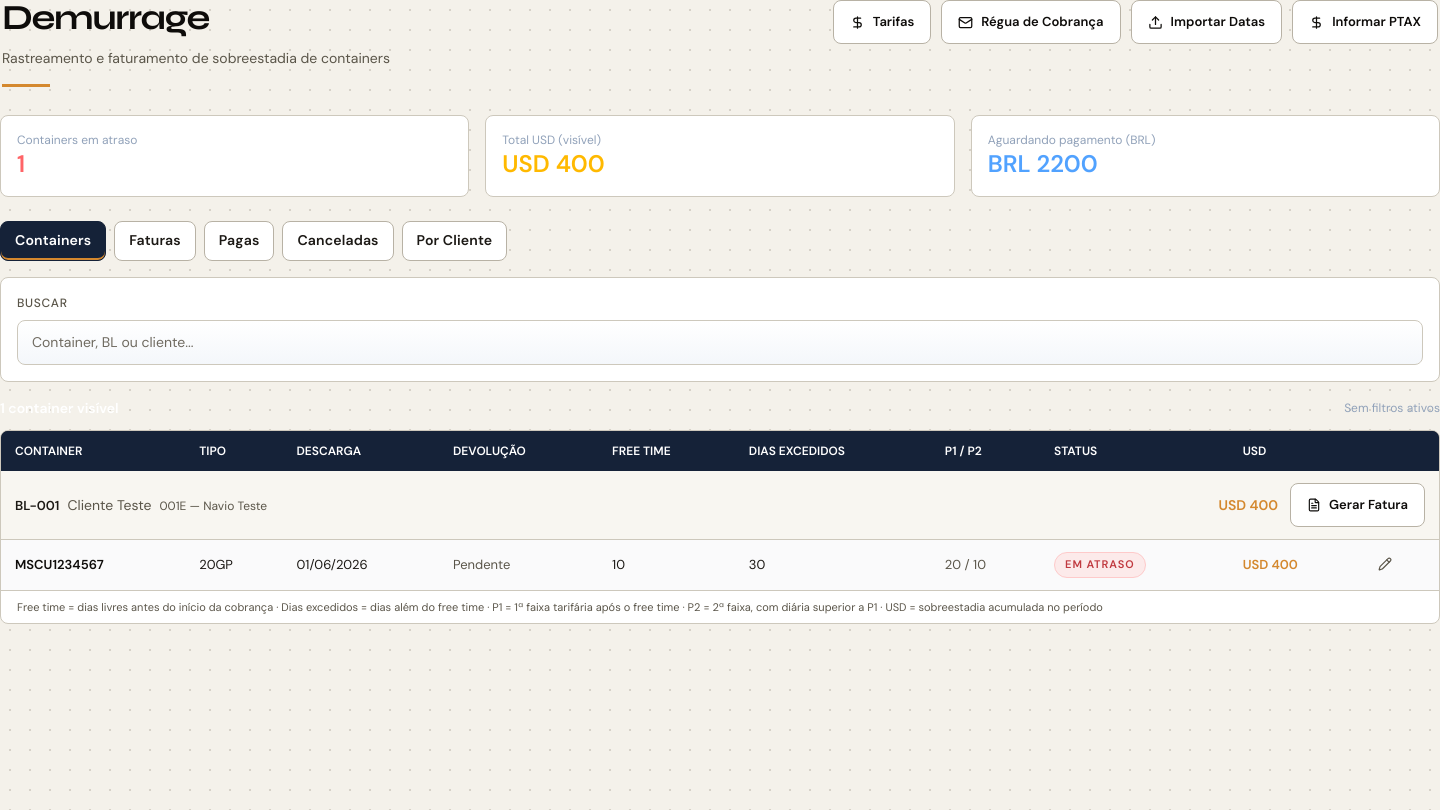
Test: Demurrage page behaviours › reverses a paid invoice with an audited reason
Click the tab "Pagas". click: (239, 241)
box: 204,221 -> 274,261
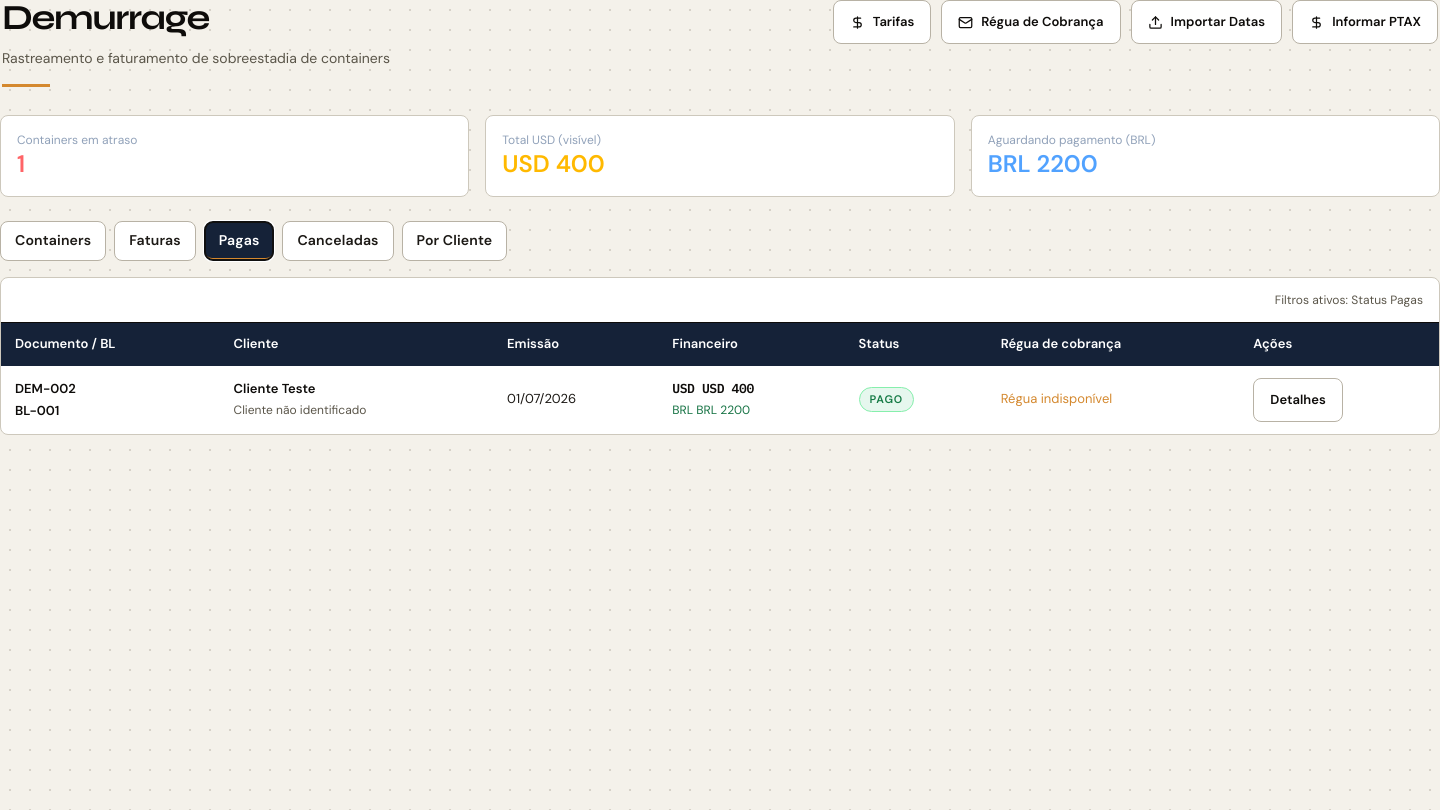
Now the text "DEM-002" is shown, box 15,380 -> 76,396
Click the button "Detalhes". click: (1298, 400)
box: 1253,378 -> 1343,422
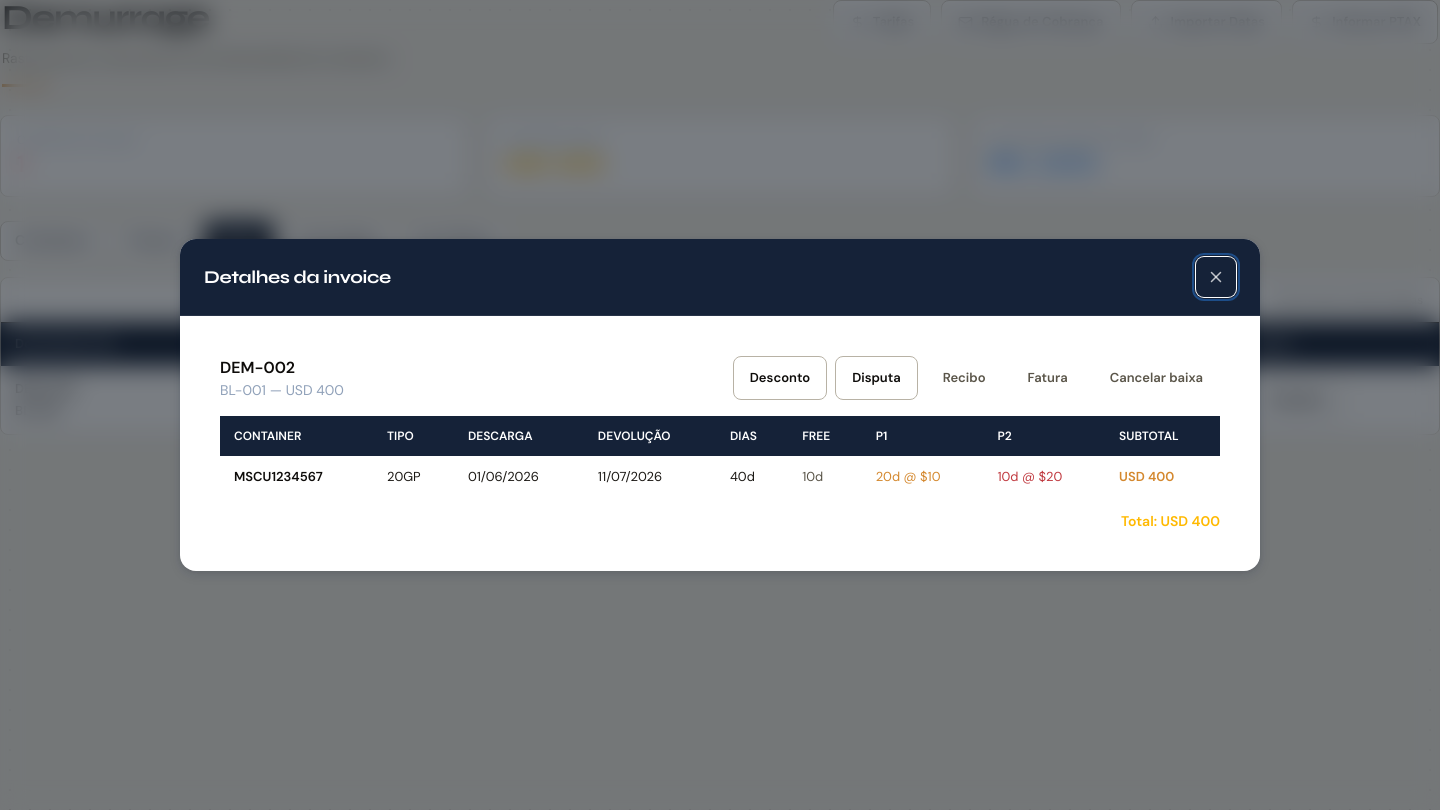
Now the dialog "Detalhes da invoice" is shown, box 180,239 -> 1260,571
Click the button "Cancelar baixa". click: (1156, 378)
box: 1093,356 -> 1220,400
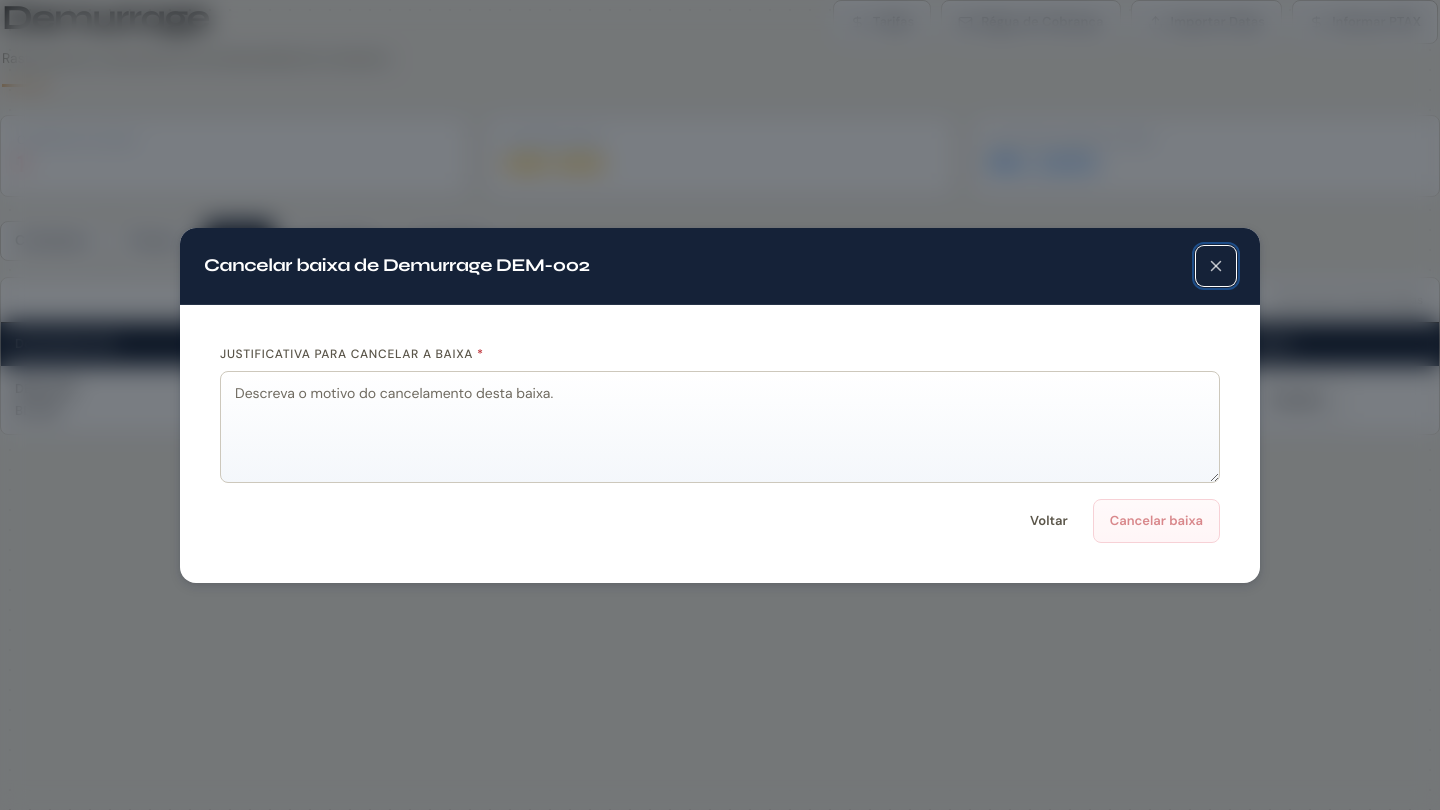
Type "PIX duplicado" into the text box labelled "Justificativa para cancelar a baixa *". click: (720, 426)
box: 220,370 -> 1220,482
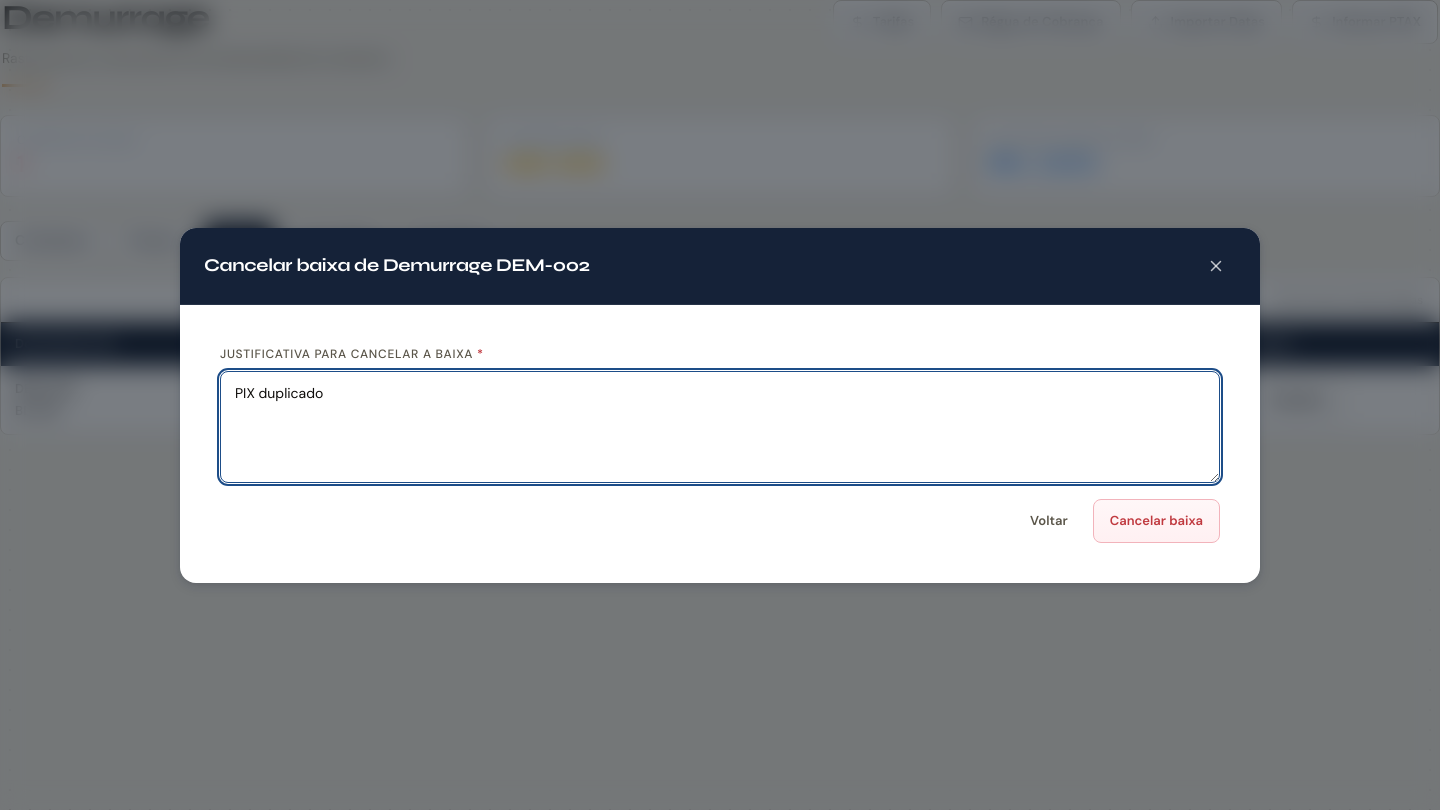
Click the button "Cancelar baixa". click: (1156, 520)
box: 1093,498 -> 1220,542
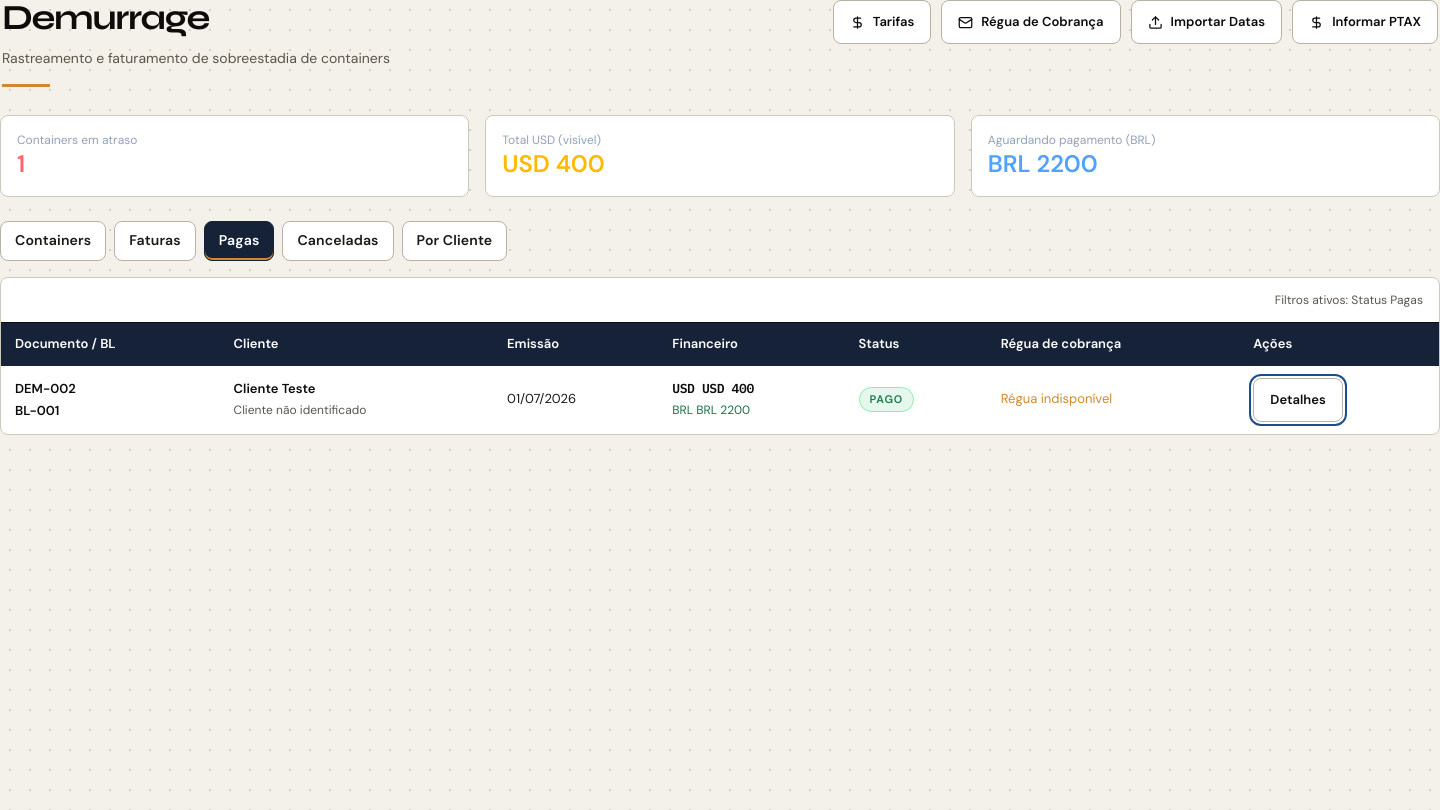
Now the heading "Cancelar baixa de Demurrage" is gone
